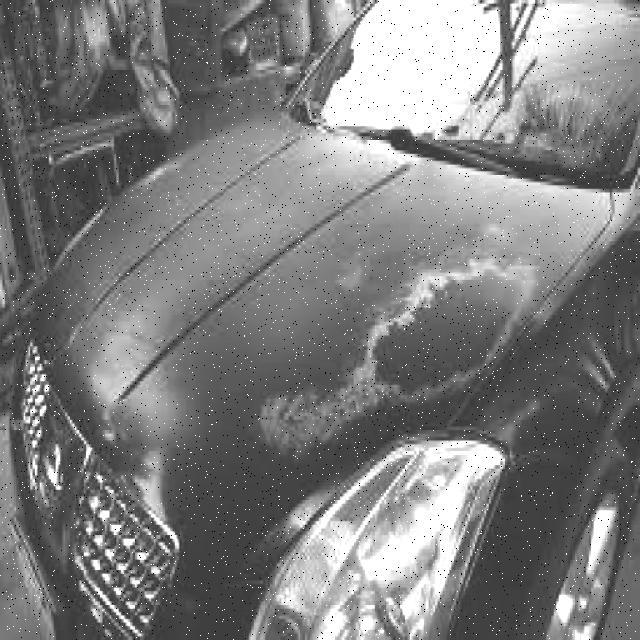car damage: (258, 240, 544, 458)
